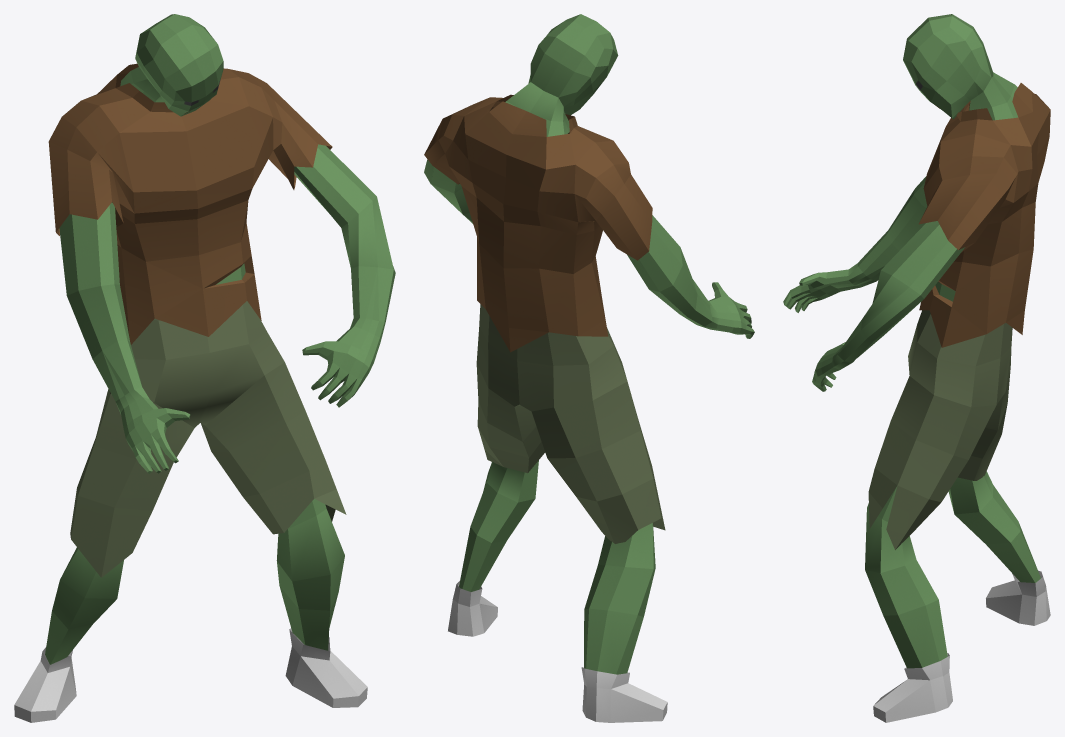
The model's file is ZombieDead(2).obj.
3 views of the same model, side by side, from view 1: azimuth 30°, elevation 25°; view 2: azimuth 150°, elevation 25°; view 3: azimuth 270°, elevation 25° (orthographic). The views are drawn at different scales.
Visible parts, largest first — view 1: Object001; view 2: Object001; view 3: Object001.
Boxes of the visible parts, x1,y1,x2,y2 form: Object001: [14, 14, 395, 722]; Object001: [424, 14, 754, 722]; Object001: [783, 14, 1050, 722].
Bounding box in the file's own units: 26.21 × 56.8 × 21.62.
